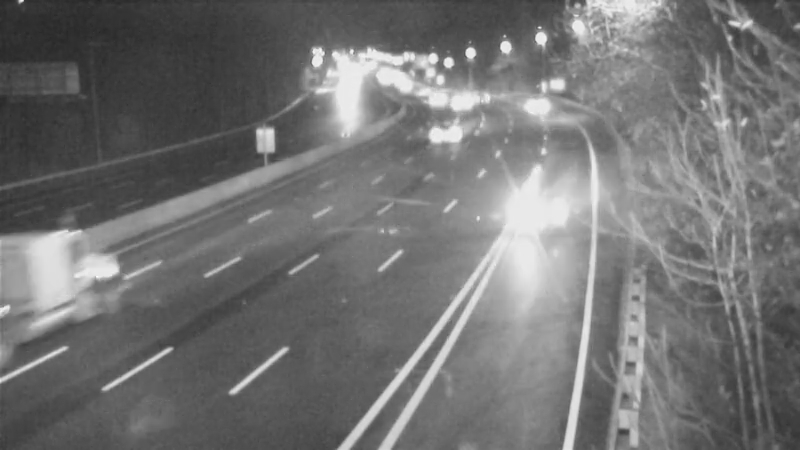vehicle: (497, 180, 577, 260), (399, 65, 449, 115), (410, 73, 460, 123), (455, 69, 505, 119), (507, 78, 557, 128), (434, 79, 484, 129), (417, 110, 467, 160)
